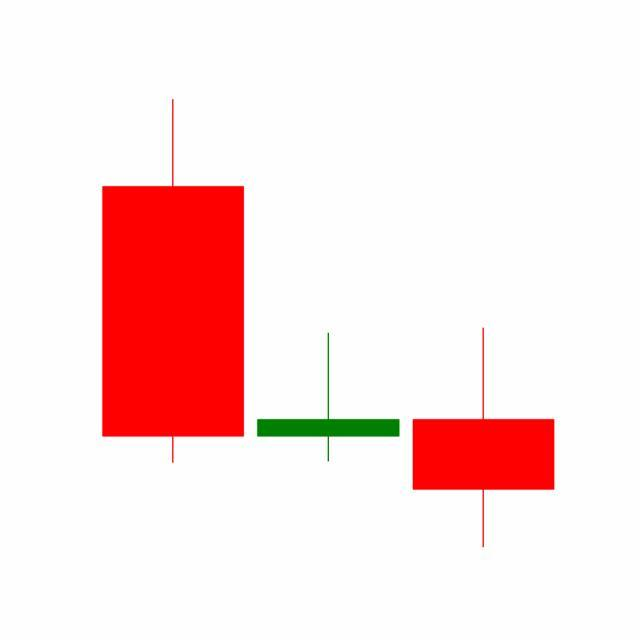Spinning Top: (250, 331, 407, 464)
